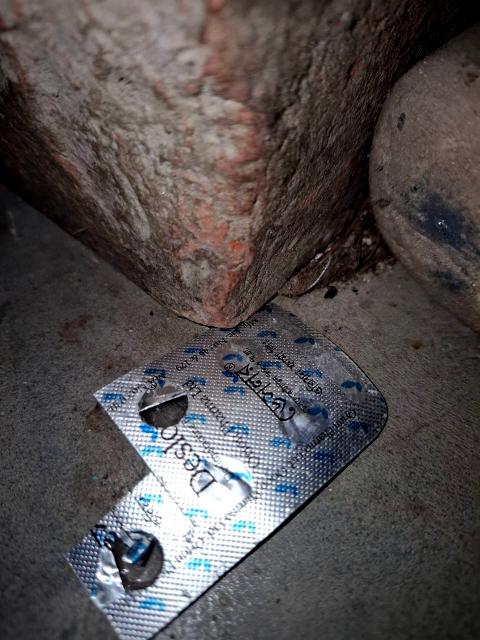medicine: (0, 240, 429, 640)
